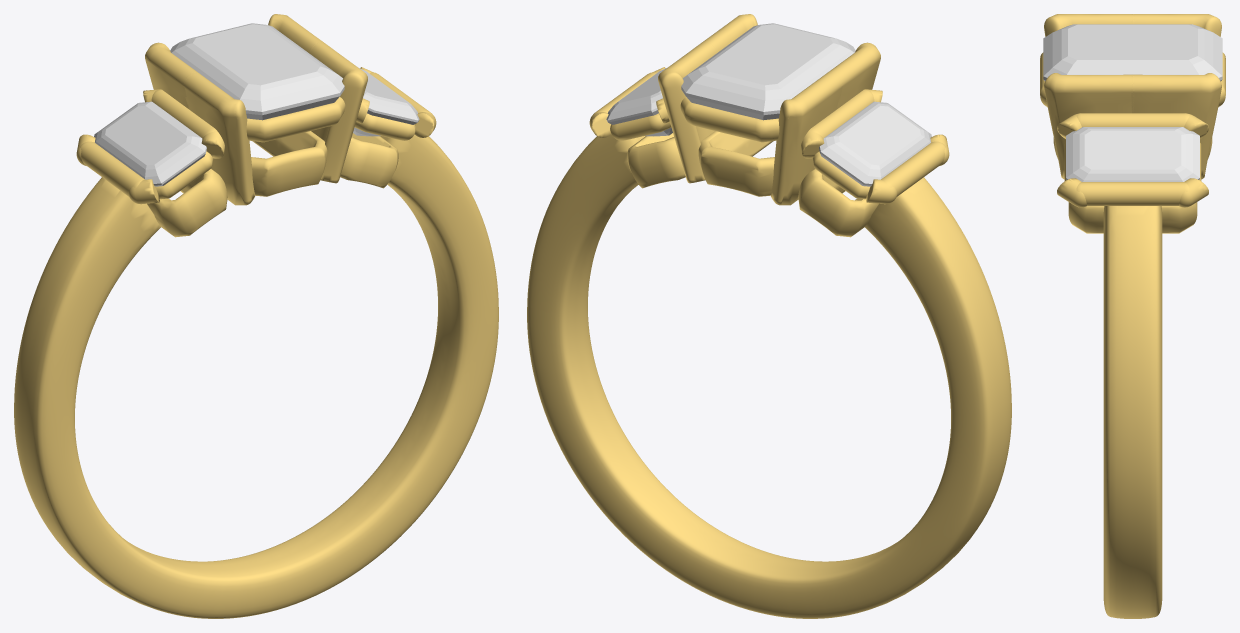
Rendered from diamond-emerald-yellowgold-halfmoonbezel-straightband-3stone.glb.
3 renders of one model, left to right at view 1: azimuth 30°, elevation 25°; view 2: azimuth 150°, elevation 25°; view 3: azimuth 270°, elevation 25°, orthographic.
Parts seen in each view (by area): view 1: metal.001, stone.002, side.002, side.003; view 2: metal.001, stone.002, side.002, side.003; view 3: metal.001, stone.002, side.003.
Part boxes in pixels (left/top/right/bottom): metal.001: left=14, top=14, right=498, bottom=618; stone.002: left=170, top=23, right=344, bottom=120; side.002: left=94, top=101, right=206, bottom=186; side.003: left=353, top=68, right=419, bottom=136; metal.001: left=527, top=14, right=1011, bottom=618; stone.002: left=681, top=23, right=855, bottom=120; side.002: left=819, top=101, right=931, bottom=186; side.003: left=606, top=68, right=672, bottom=136; metal.001: left=1040, top=14, right=1225, bottom=618; stone.002: left=1043, top=24, right=1222, bottom=81; side.003: left=1066, top=127, right=1199, bottom=181.
Bounding box in the file's own units: 20.1 × 22.75 × 6.94.
